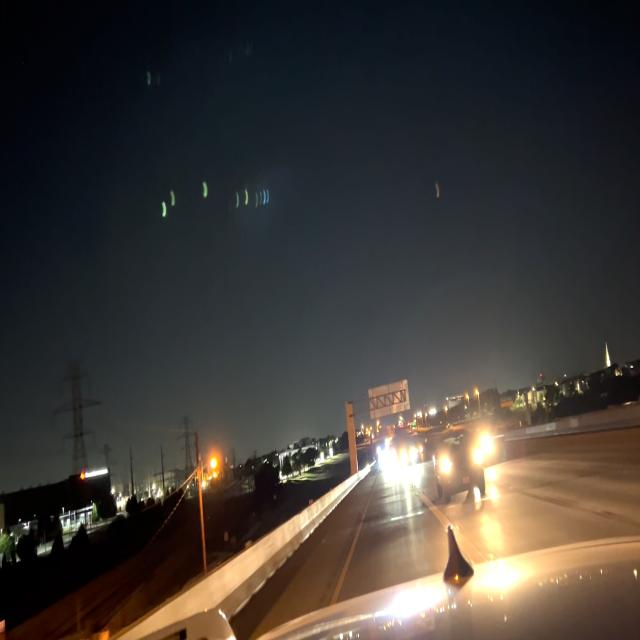back-of-sign: (369, 378, 409, 418)
